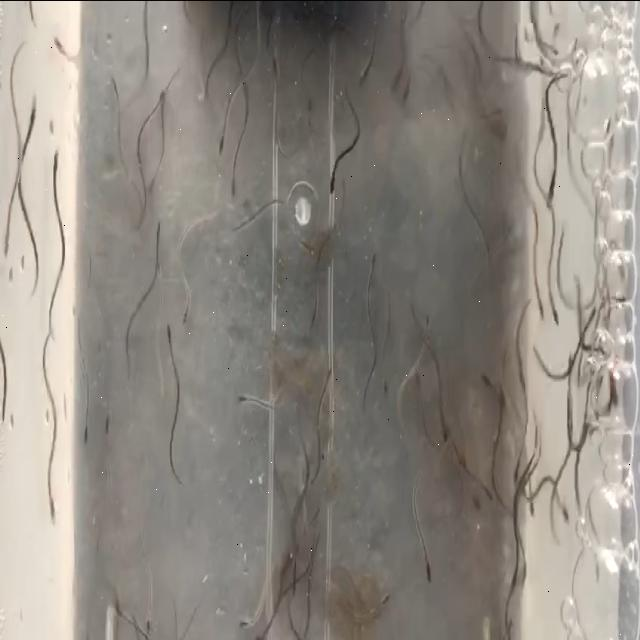active_glass_eel: (476, 464, 498, 508), (290, 222, 316, 258), (544, 284, 562, 332), (178, 280, 195, 328), (416, 533, 432, 584), (523, 472, 539, 520), (236, 375, 256, 413), (24, 90, 40, 136), (388, 56, 404, 102), (214, 116, 230, 160), (225, 168, 240, 214), (542, 175, 558, 217), (466, 482, 484, 519), (0, 215, 12, 268), (510, 454, 525, 494), (302, 499, 320, 532), (150, 216, 166, 253), (267, 52, 281, 94), (142, 602, 158, 638), (418, 306, 433, 344), (400, 70, 412, 116), (436, 399, 449, 441), (155, 82, 171, 116), (78, 402, 90, 447), (371, 586, 389, 616), (46, 484, 59, 525), (235, 612, 255, 638), (520, 546, 530, 598), (560, 489, 574, 524), (322, 352, 333, 396), (51, 38, 71, 62), (532, 291, 546, 325), (478, 372, 496, 398), (366, 245, 376, 289), (500, 372, 510, 410), (329, 158, 339, 194), (50, 144, 61, 176), (165, 320, 175, 354), (102, 404, 114, 432), (146, 172, 160, 196)
